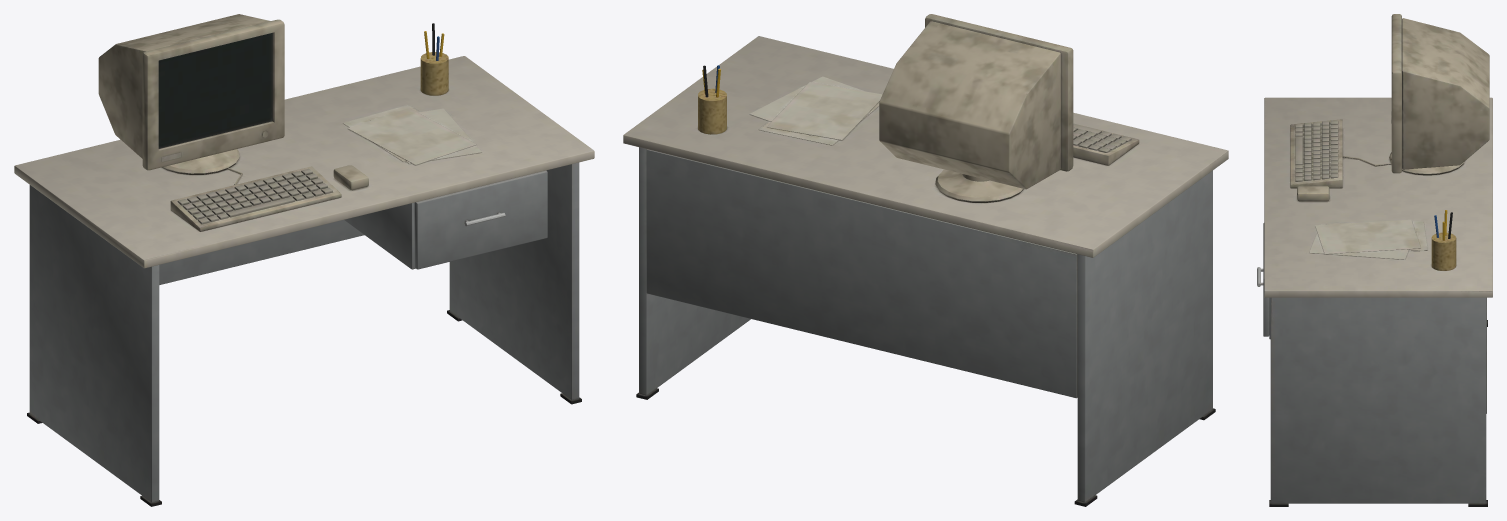
File: mesa_escritorio.glb
The picture shows the model from 3 angles, left to right: view 1: azimuth 30°, elevation 25°; view 2: azimuth 150°, elevation 25°; view 3: azimuth 270°, elevation 25°; orthographic projection. The views are drawn at different scales.
Parts seen in each view (by area): view 1: mesa, gaveta; view 2: mesa; view 3: mesa, gaveta.
Boxes of the visible parts, left/top/right/bottom form: mesa: left=14, top=14, right=594, bottom=506; gaveta: left=414, top=170, right=547, bottom=269; mesa: left=623, top=14, right=1228, bottom=506; mesa: left=1264, top=14, right=1492, bottom=506; gaveta: left=1257, top=223, right=1269, bottom=336.
Size of the model in its own units: 1.4 by 1.14 by 0.722.
Materials: 2 (2 with a texture image).
